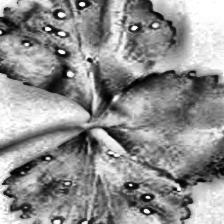Leaf Spot: (0, 0, 178, 119), (0, 127, 193, 224), (92, 69, 224, 186)
